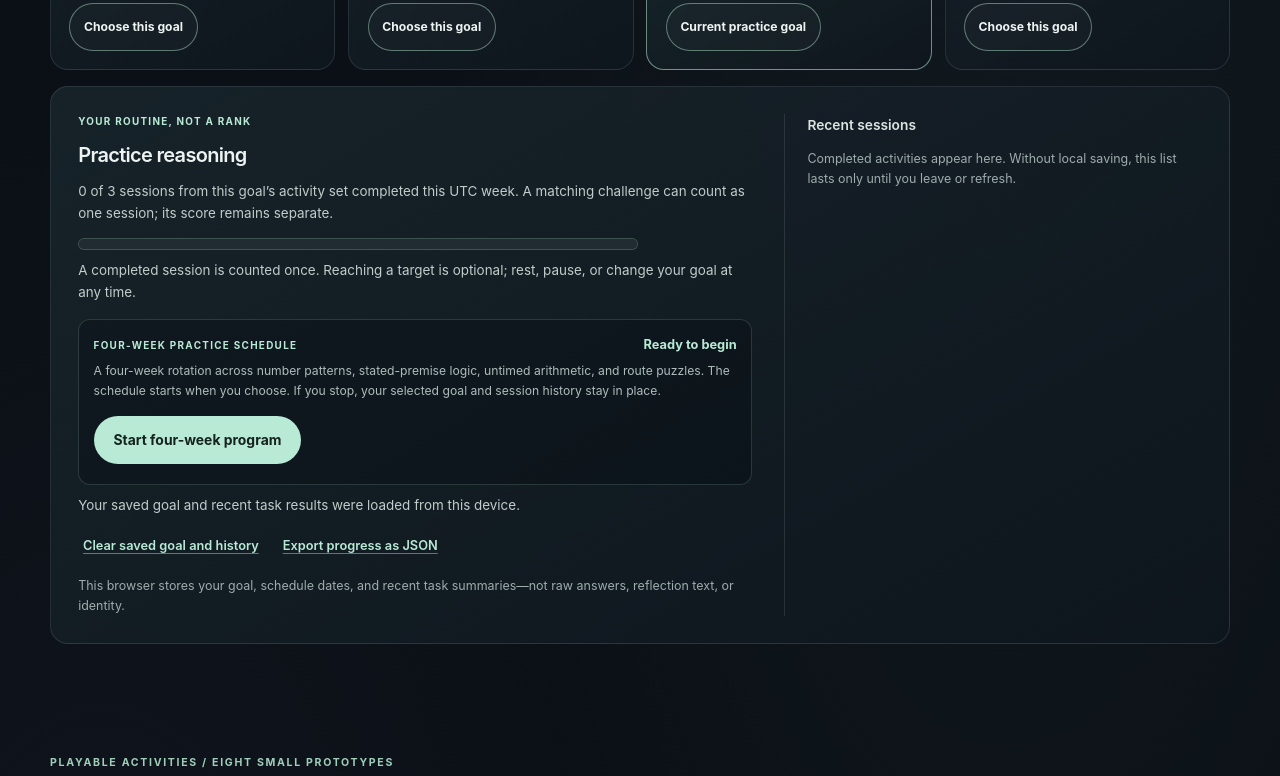
Test: TrainingHub › migrates a version-one saved goal without program metadata
(page scrolled)
Click the button "Start four-week program" at (197, 440), box [94,416,301,464]
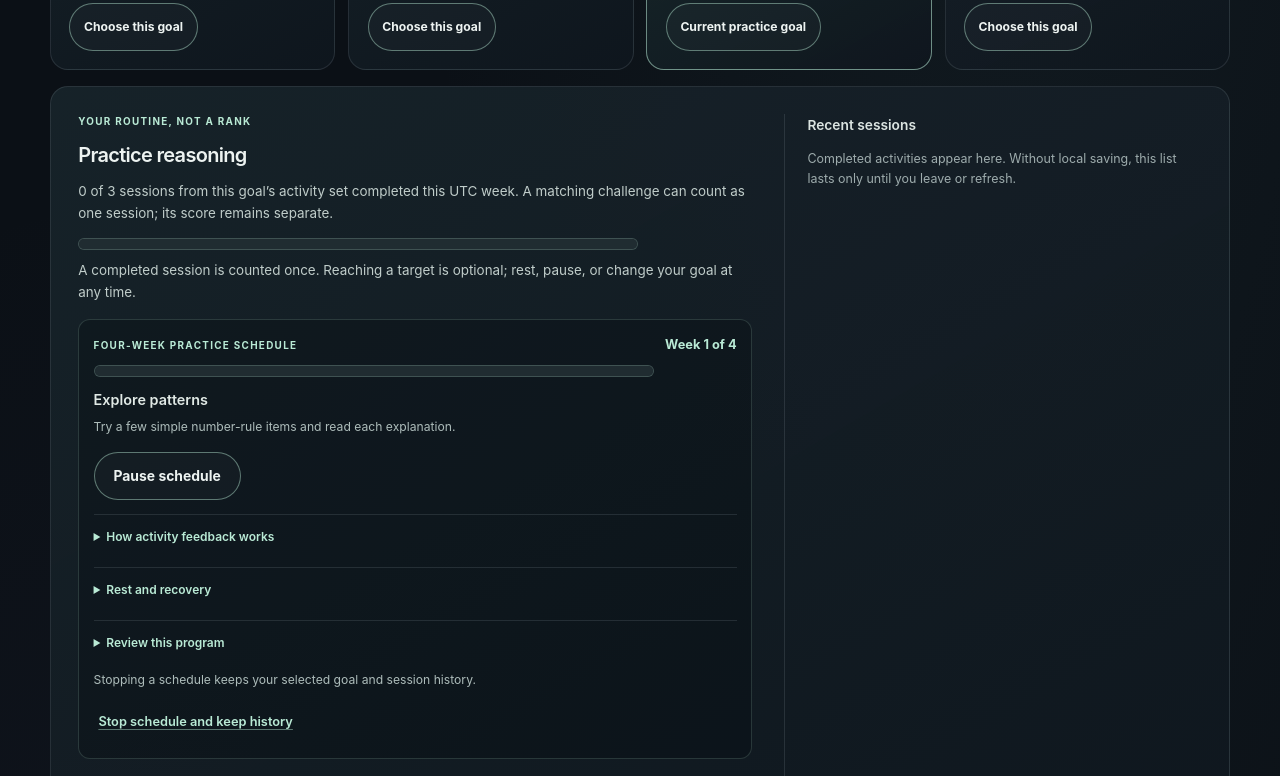
Check: the text "Week 1 of 4" is shown, box [665,335,737,355]
